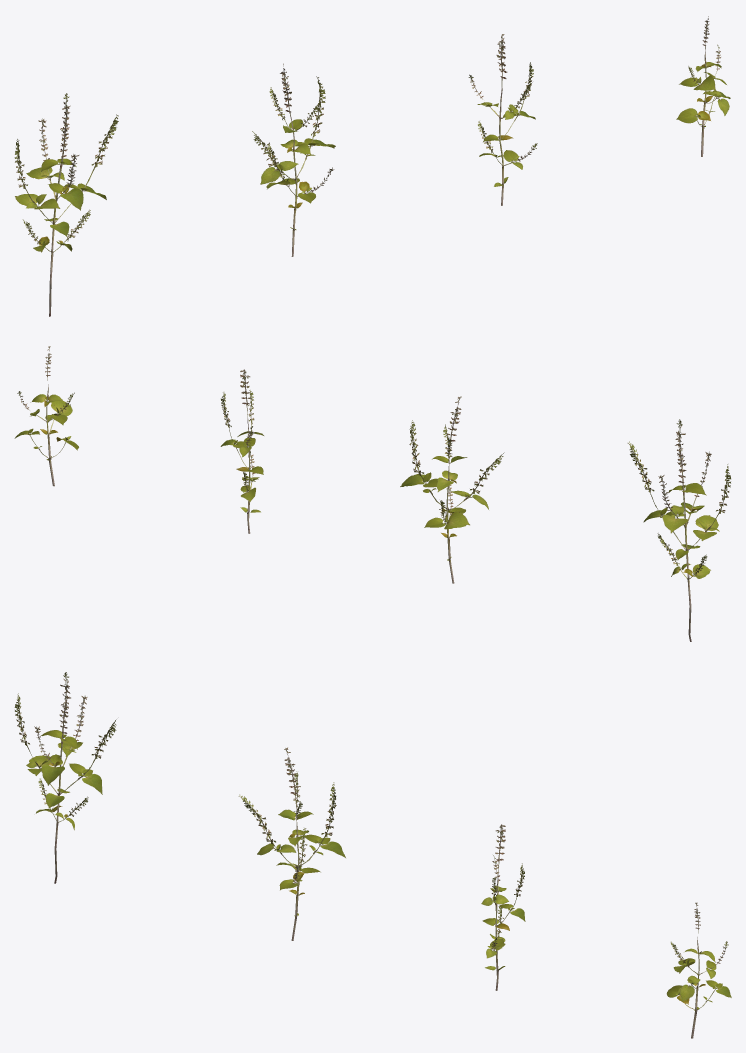
The model's file is shrub_03.light.glb.
The picture shows the model from 3 angles, top to bottom: view 1: azimuth 30°, elevation 25°; view 2: azimuth 150°, elevation 25°; view 3: azimuth 330°, elevation 25°; orthographic projection. The views are drawn at different scales.
Visible parts, largest first — view 1: shrub_03_a, shrub_03_b, shrub_03_c, shrub_03_d; view 2: shrub_03_a, shrub_03_b, shrub_03_c, shrub_03_d; view 3: shrub_03_a, shrub_03_b, shrub_03_d, shrub_03_c.
Boxes of the visible parts, x1,y1,x2,y2 form: shrub_03_a: (14,93,118,316); shrub_03_b: (252,63,335,256); shrub_03_c: (468,34,537,205); shrub_03_d: (676,16,730,156); shrub_03_a: (627,419,730,641); shrub_03_b: (400,396,504,583); shrub_03_c: (220,369,263,533); shrub_03_d: (14,346,78,486); shrub_03_a: (14,672,116,883); shrub_03_b: (238,747,345,940); shrub_03_d: (666,902,731,1038); shrub_03_c: (481,824,525,990).
Size of the model in its own units: 2 by 0.5893 by 0.2212.
Materials: 1 (1 with a texture image).
